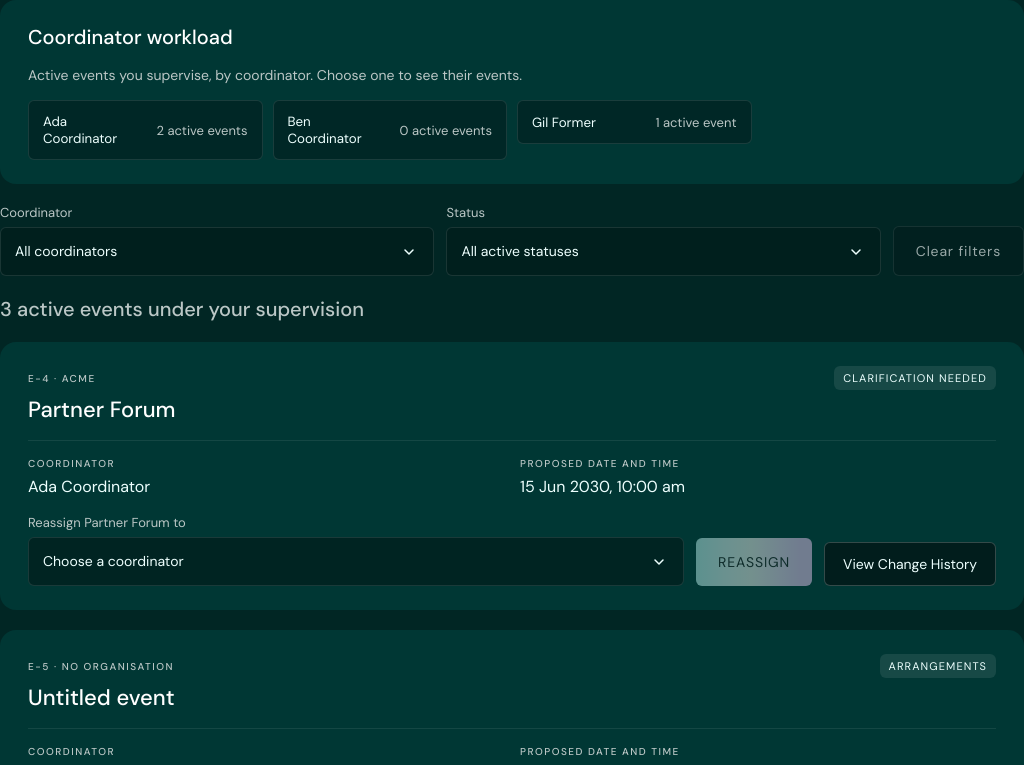
Test: CoordinatorOverview (SG2-89) › [NORMAL] [SG2-89:AC3] [SG2-89:AC6] filters by coordinator and status, including awaiting clarification, and clears both
Check: the element "Partner Forum" is shown, box [28,366,996,586]
Check: the button "Clear filters" is disabled, box [893,226,1023,276]
Select "Ada Coordinator" in the dropdown labelled "Coordinator" at coordinates (217, 252), box [0,227,434,276]
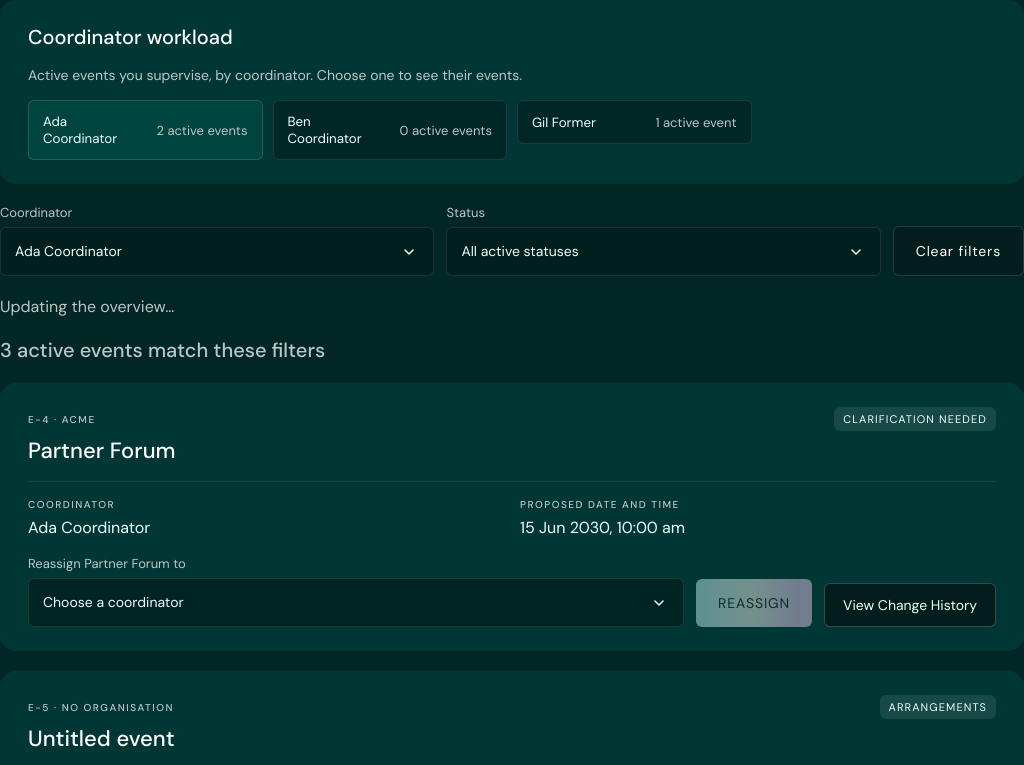
Select "Clarification Needed" in the dropdown labelled "Status" at coordinates (664, 252), box [446,227,881,276]
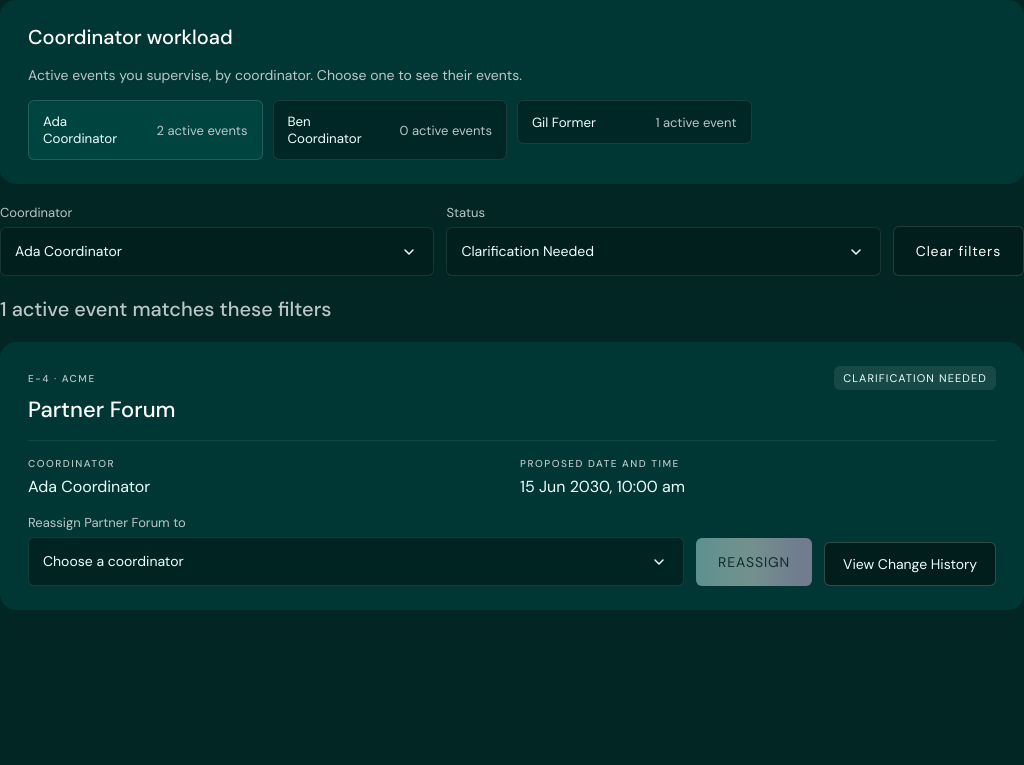
Check: the heading "1 active event matches these filters" is shown, box [0,296,332,322]
Click the button "Clear filters" at coordinates (958, 251), box [893,226,1023,276]
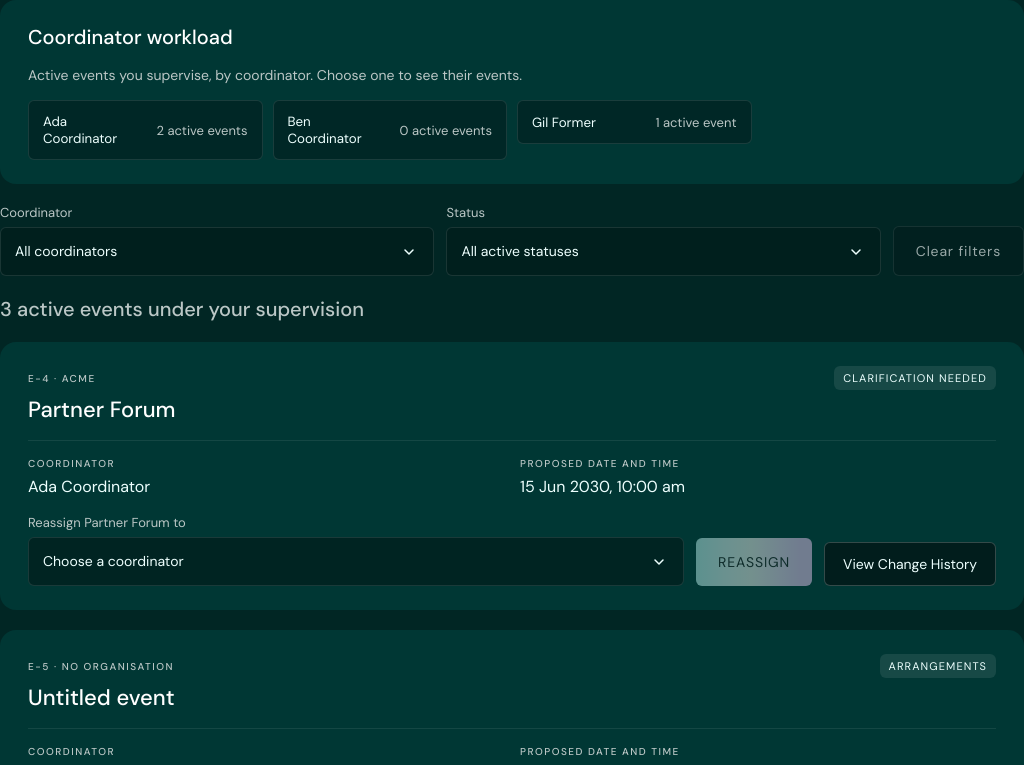
Check: the heading "3 active events under your supervision" is shown, box [0,296,364,322]
